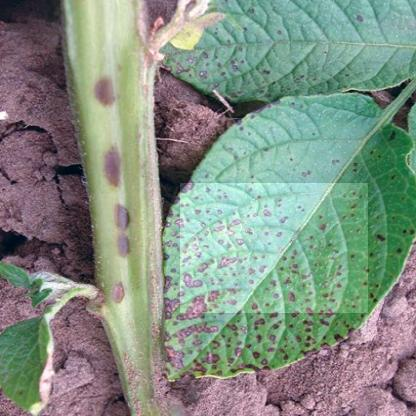black-spot: (181, 183, 368, 313)
